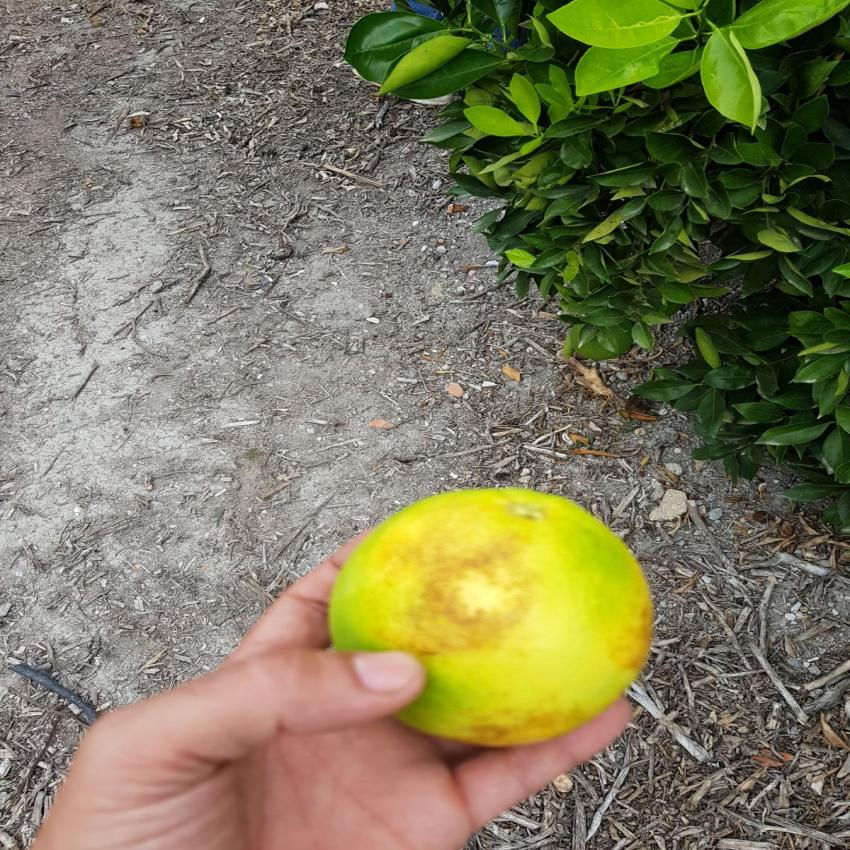Mal estado: (325, 478, 665, 742)
